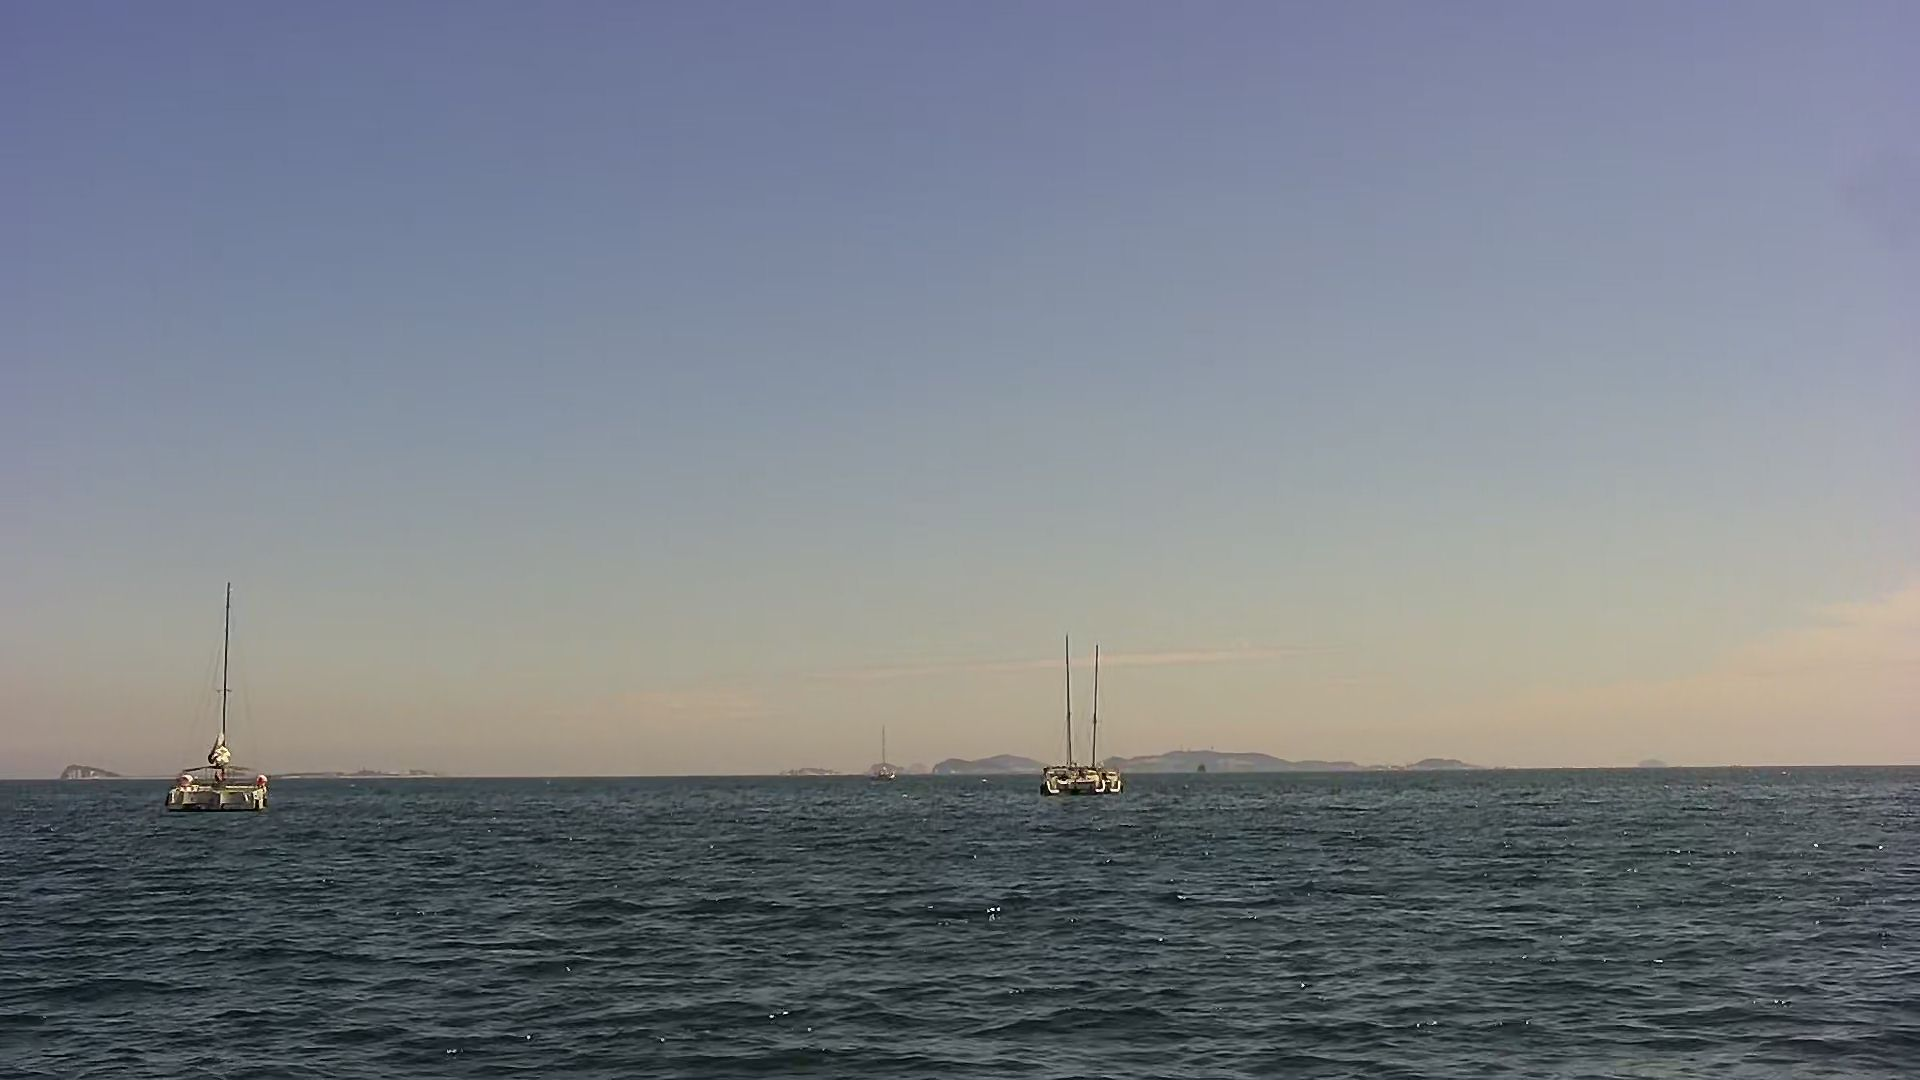boat: (158, 570, 290, 816), (1076, 640, 1129, 799), (1040, 630, 1077, 799), (868, 709, 898, 789)
rock: (1104, 745, 1361, 777), (290, 760, 455, 781), (932, 752, 1039, 777), (1404, 746, 1486, 767), (61, 760, 129, 781), (783, 764, 851, 775), (1633, 752, 1683, 767)
